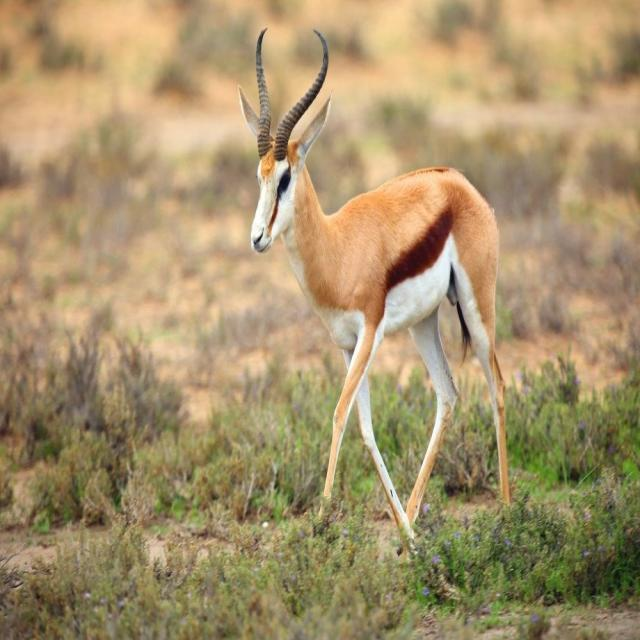Antelope: (231, 22, 518, 551)
